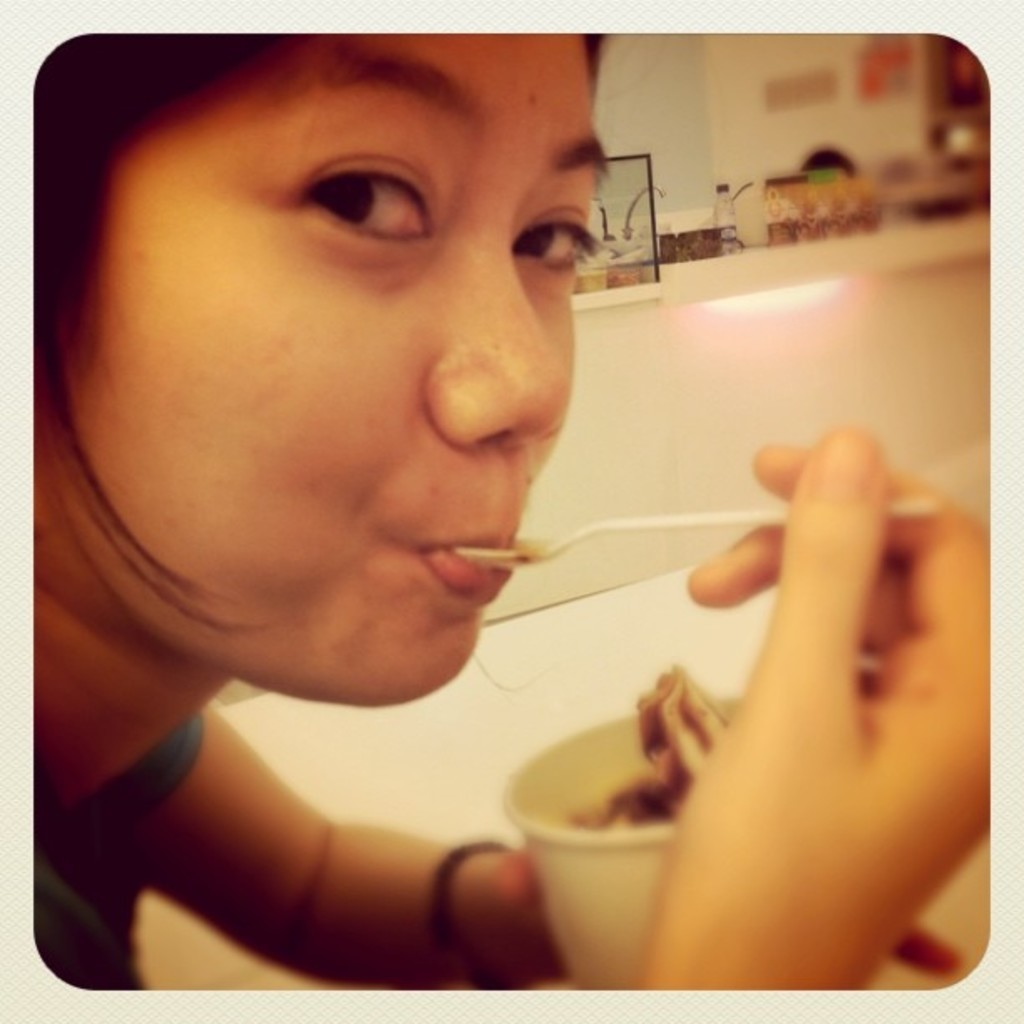Person: (31, 32, 989, 989)
